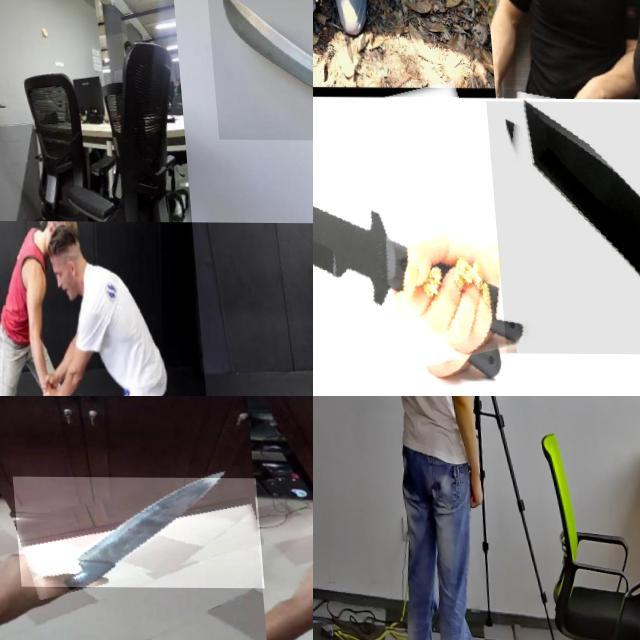-: (313, 95, 517, 395), (480, 100, 640, 354), (6, 477, 256, 588), (205, 0, 313, 140), (36, 396, 138, 456), (313, 0, 324, 27), (0, 94, 10, 115)
gun-knife-thesis - v11 Yolov5 augmented: (487, 396, 526, 421)
